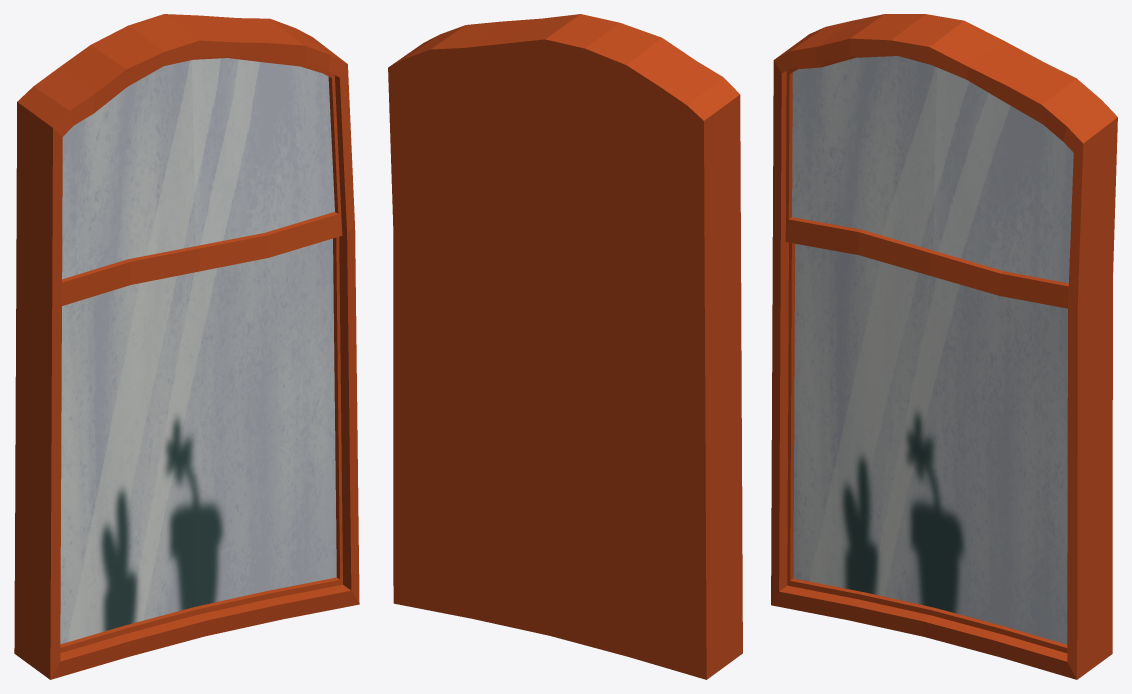
Rendered from Window25.fbx.
The picture shows the model from 3 angles, left to right: view 1: azimuth 30°, elevation 25°; view 2: azimuth 150°, elevation 25°; view 3: azimuth 330°, elevation 25°; orthographic projection. The views are drawn at different scales.
Visible parts, largest first — view 1: Cube.040; view 2: Cube.040; view 3: Cube.040.
Boxes of the visible parts, x1=… form: Cube.040: x1=14, y1=14, x2=359, y2=679; Cube.040: x1=388, y1=14, x2=742, y2=679; Cube.040: x1=771, y1=14, x2=1117, y2=679.
Size of the model in its own units: 117 by 216 by 29.68.
